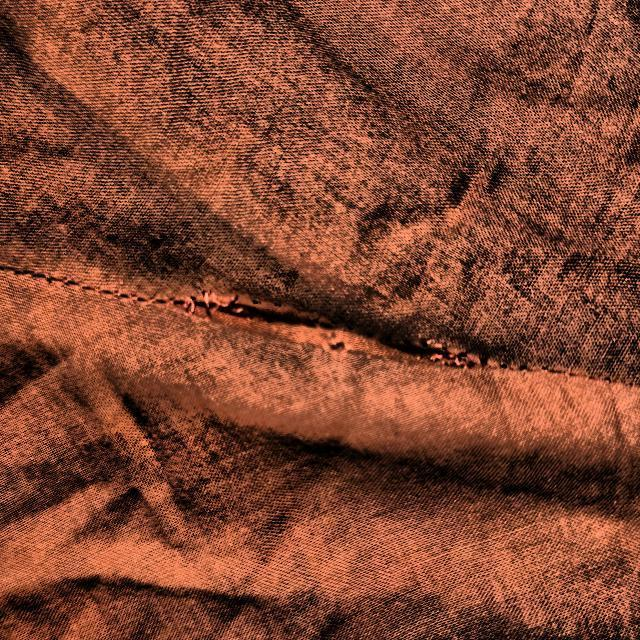gray stitch: (176, 235, 506, 420)
